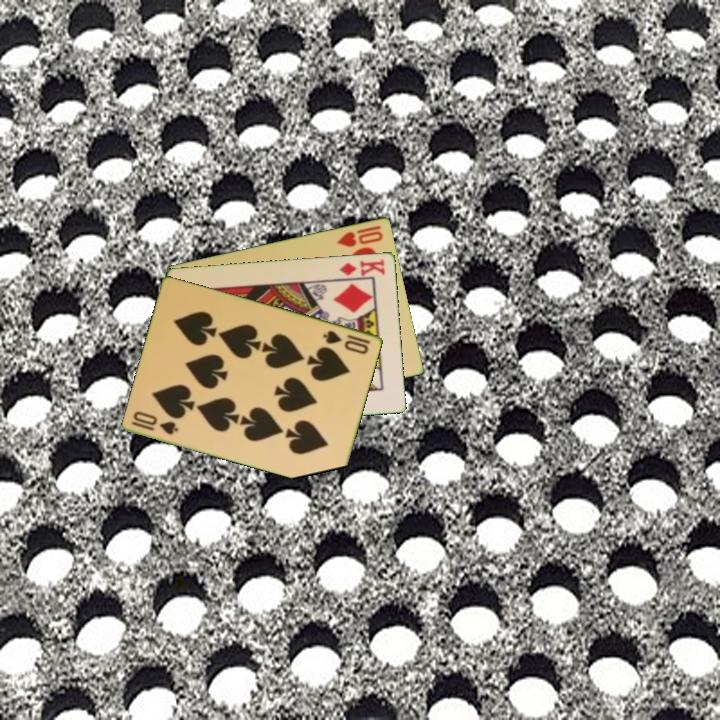10h: (333, 222, 386, 250)
10s: (320, 327, 374, 357), (128, 407, 181, 437)
Kd: (336, 255, 388, 279)
